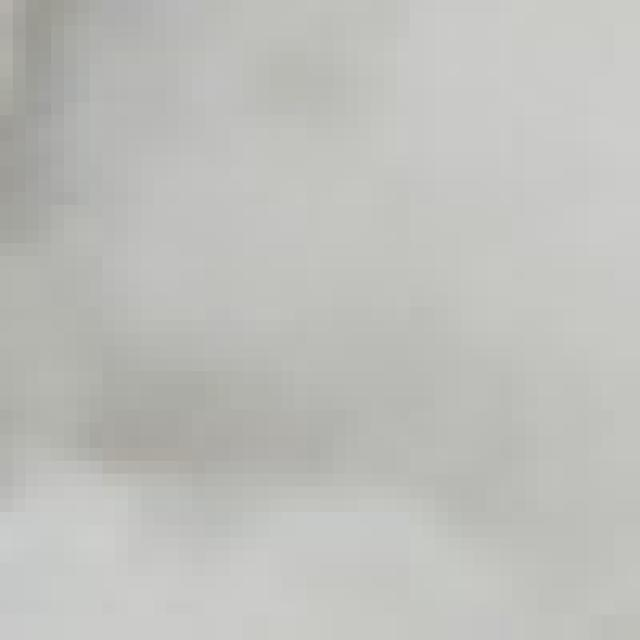no_fire: (35, 39, 607, 576)
